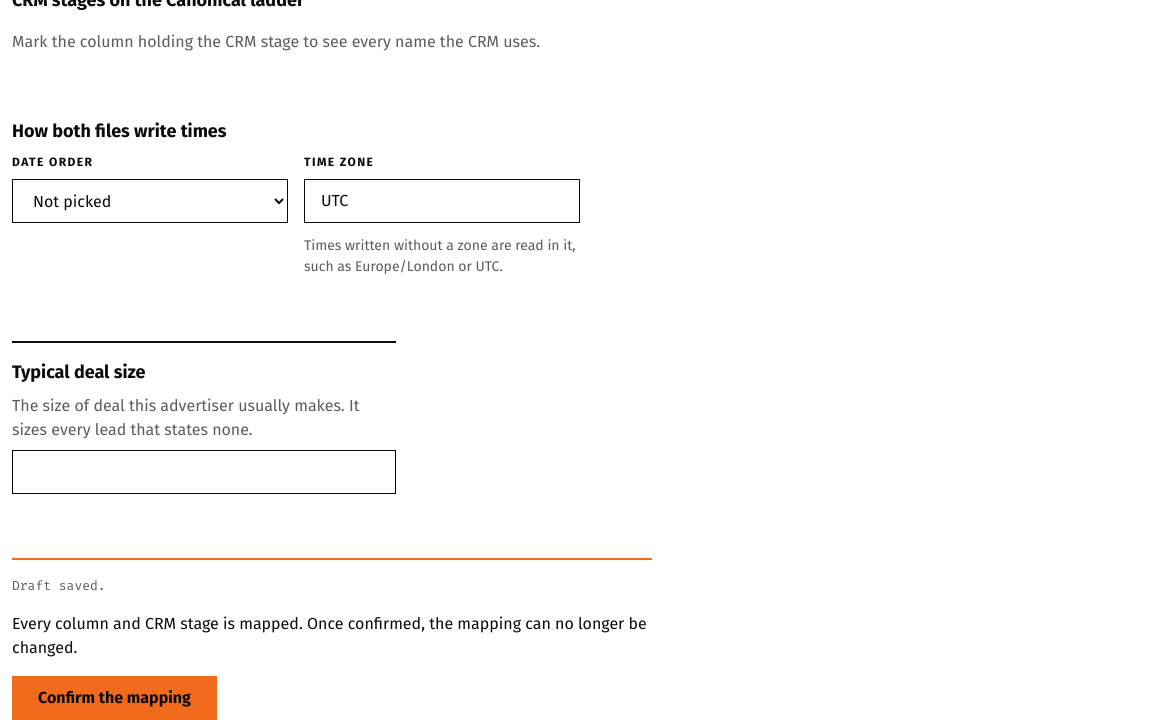
Test case: ReviewStep › after a refused confirmation, shows the mapping as the service now has it
The width and height of the screenshot is (1164, 720).
(page scrolled)
Click the button "Confirm the mapping".
click(114, 698)  # box [12,676,217,719]
(page scrolled)
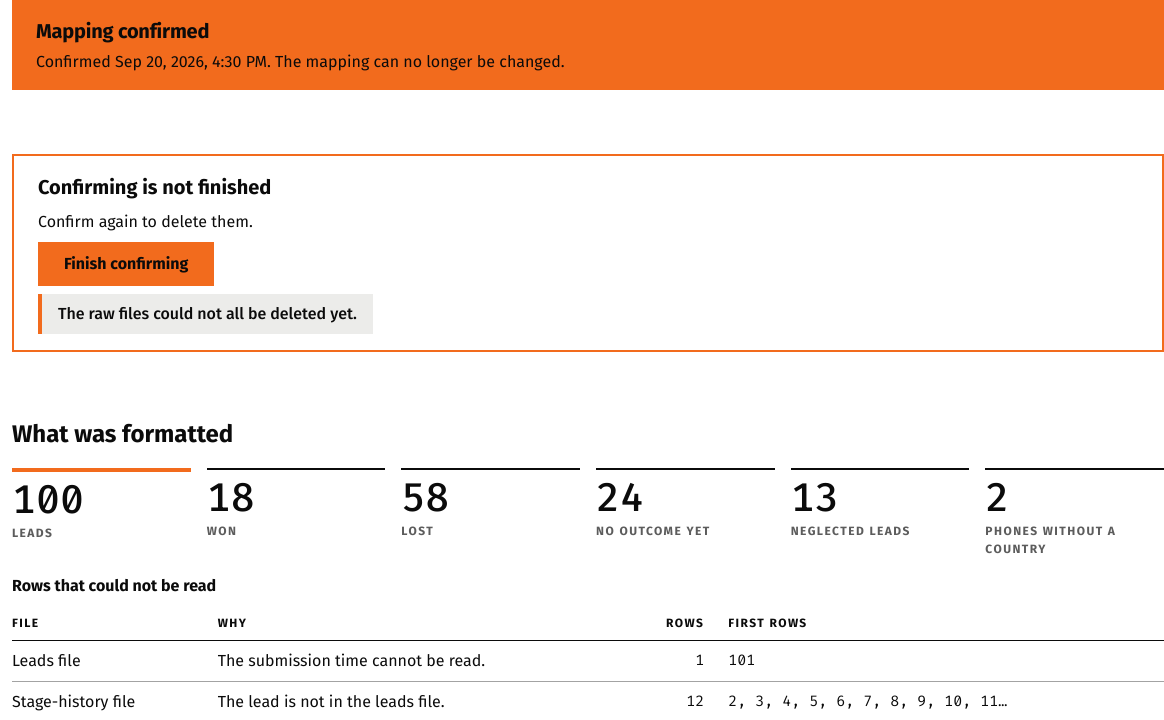
Expected: the message "Mapping confirmed" is shown, [12,0,1163,90]
Expected: the message "The raw files could not all be deleted yet." is shown, [38,294,373,334]
